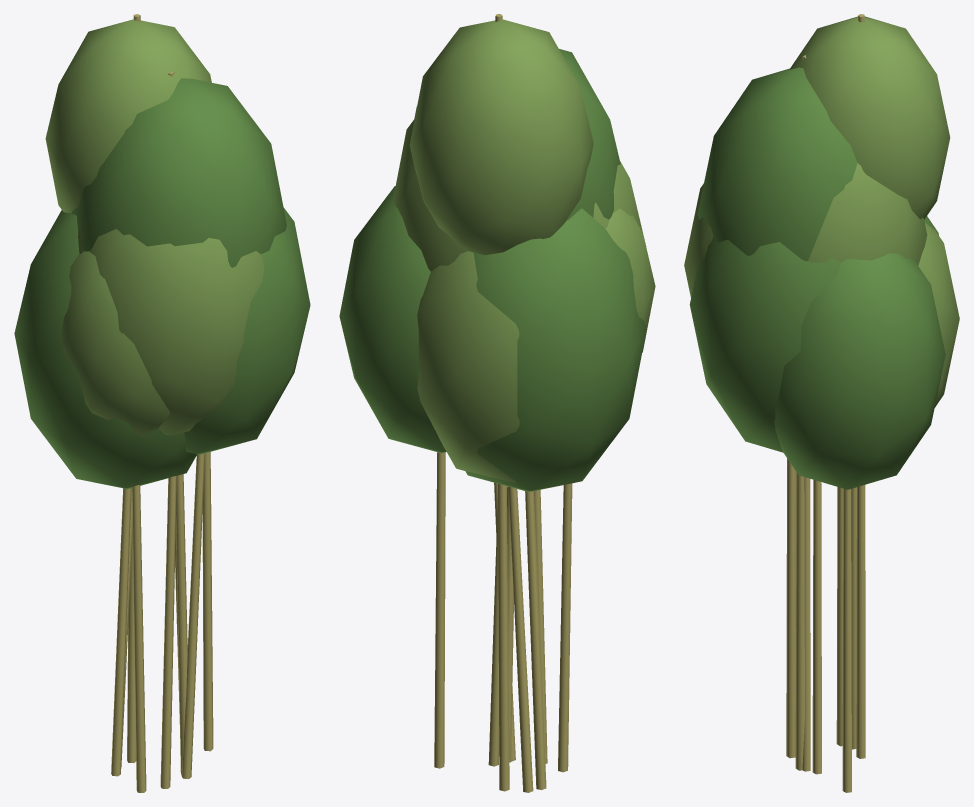
The model's file is bamboo.glb.
3 renders of one model, left to right at view 1: azimuth 30°, elevation 25°; view 2: azimuth 150°, elevation 25°; view 3: azimuth 270°, elevation 25°, orthographic. The views are drawn at different scales.
Visible parts, largest first — view 1: bamboo; view 2: bamboo; view 3: bamboo.
Part boxes in pixels (x1,y1,x2,y2): bamboo: [14, 14, 310, 792]; bamboo: [339, 14, 655, 792]; bamboo: [684, 14, 959, 792].
Bounding box in the file's own units: 1.65 × 4.42 × 1.49.
